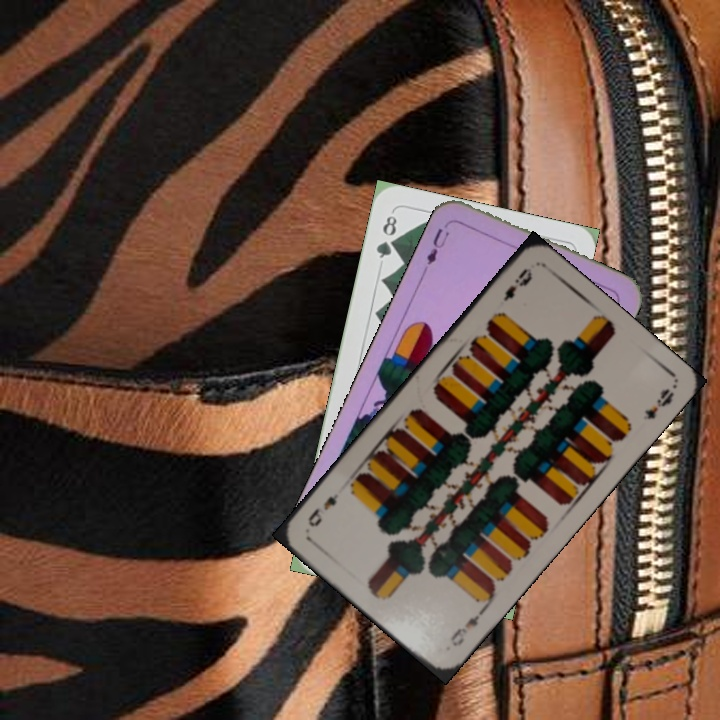E9: (446, 604, 488, 649), (498, 263, 535, 304)
EU: (419, 218, 453, 274)
G8: (372, 211, 400, 261)
